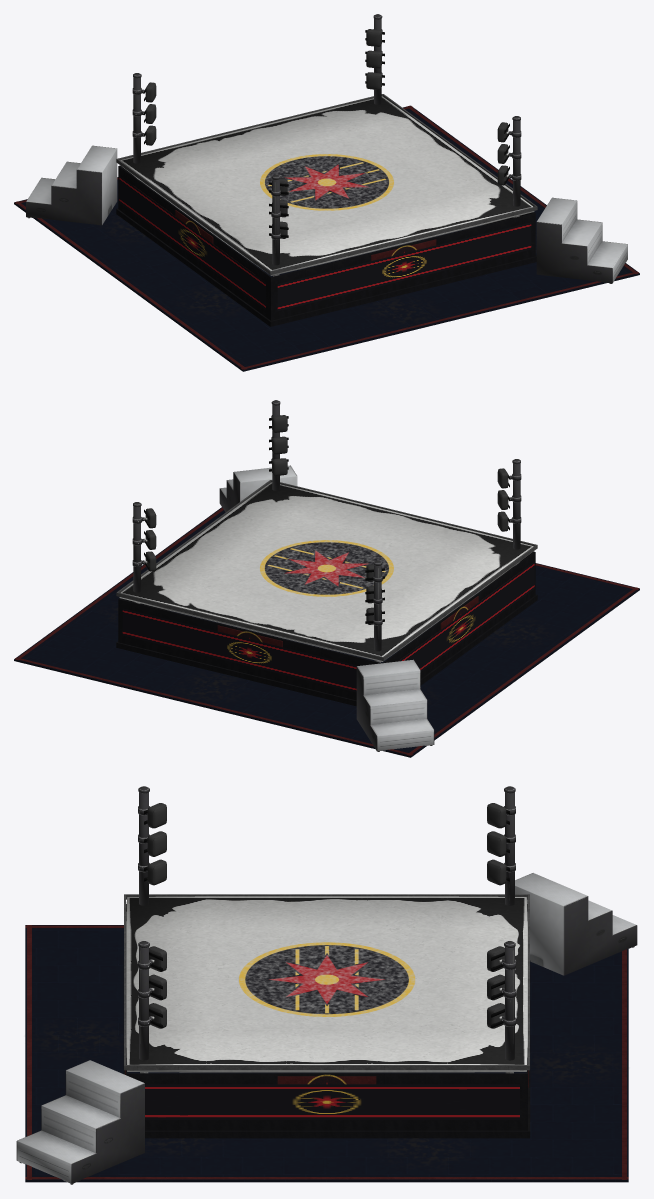
File: ring_gym.glb
The picture shows the model from 3 angles, top to bottom: view 1: azimuth 30°, elevation 25°; view 2: azimuth 150°, elevation 25°; view 3: azimuth 270°, elevation 25°; orthographic projection. The views are drawn at different scales.
Visible parts, largest first — view 1: ring_Hero_ring_canvas_16__white, ring_Kit_rubber_tiles, ring_Kit_fabric_leather_02, ring_Art_Apron, ring_Hero_ring_steps_100__steel, ring_Decal_Logo, ring_Hero_ring_post__black, ring_Hero_ring_pad__neutral__Pad_Black, ring_Decal_Grime; view 2: ring_Hero_ring_canvas_16__white, ring_Kit_rubber_tiles, ring_Kit_fabric_leather_02, ring_Art_Apron, ring_Hero_ring_steps_100__steel, ring_Decal_Logo, ring_Hero_ring_post__black, ring_Hero_ring_pad__neutral__Pad_Black, ring_Decal_Grime; view 3: ring_Hero_ring_canvas_16__white, ring_Kit_rubber_tiles, ring_Kit_fabric_leather_02, ring_Hero_ring_steps_100__steel, ring_Art_Apron, ring_Decal_Logo, ring_Hero_ring_pad__neutral__Pad_Black, ring_Hero_ring_post__black, ring_Decal_Grime.
Boxes of the visible parts, <box> form: ring_Hero_ring_canvas_16__white: <box>120,96,534,275</box>; ring_Kit_rubber_tiles: <box>14,105,639,371</box>; ring_Kit_fabric_leather_02: <box>15,94,638,369</box>; ring_Art_Apron: <box>119,175,531,310</box>; ring_Hero_ring_steps_100__steel: <box>26,145,627,283</box>; ring_Decal_Logo: <box>185,154,416,255</box>; ring_Hero_ring_post__black: <box>132,14,521,265</box>; ring_Hero_ring_pad__neutral__Pad_Black: <box>144,29,509,238</box>; ring_Decal_Grime: <box>106,217,536,324</box>; ring_Hero_ring_canvas_16__white: <box>119,482,533,661</box>; ring_Kit_rubber_tiles: <box>14,507,639,757</box>; ring_Kit_fabric_leather_02: <box>15,480,638,755</box>; ring_Art_Apron: <box>122,561,534,692</box>; ring_Hero_ring_steps_100__steel: <box>219,465,434,751</box>; ring_Decal_Logo: <box>237,540,468,642</box>; ring_Hero_ring_post__black: <box>132,400,521,651</box>; ring_Hero_ring_pad__neutral__Pad_Black: <box>144,415,509,624</box>; ring_Decal_Grime: <box>106,604,547,703</box>; ring_Hero_ring_canvas_16__white: <box>126,896,527,1072</box>; ring_Kit_rubber_tiles: <box>25,925,628,1182</box>; ring_Kit_fabric_leather_02: <box>25,894,628,1179</box>; ring_Hero_ring_steps_100__steel: <box>16,873,637,1184</box>; ring_Art_Apron: <box>145,1084,519,1119</box>; ring_Decal_Logo: <box>239,942,415,1084</box>; ring_Hero_ring_pad__neutral__Pad_Black: <box>144,803,509,1028</box>; ring_Hero_ring_post__black: <box>138,786,515,1060</box>; ring_Decal_Grime: <box>36,1020,617,1166</box>.
Size of the model in its own units: 7.52 by 2.54 by 7.59.
Materials: 10 (10 with a texture image).
